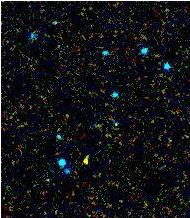star: (73, 145, 103, 175)
